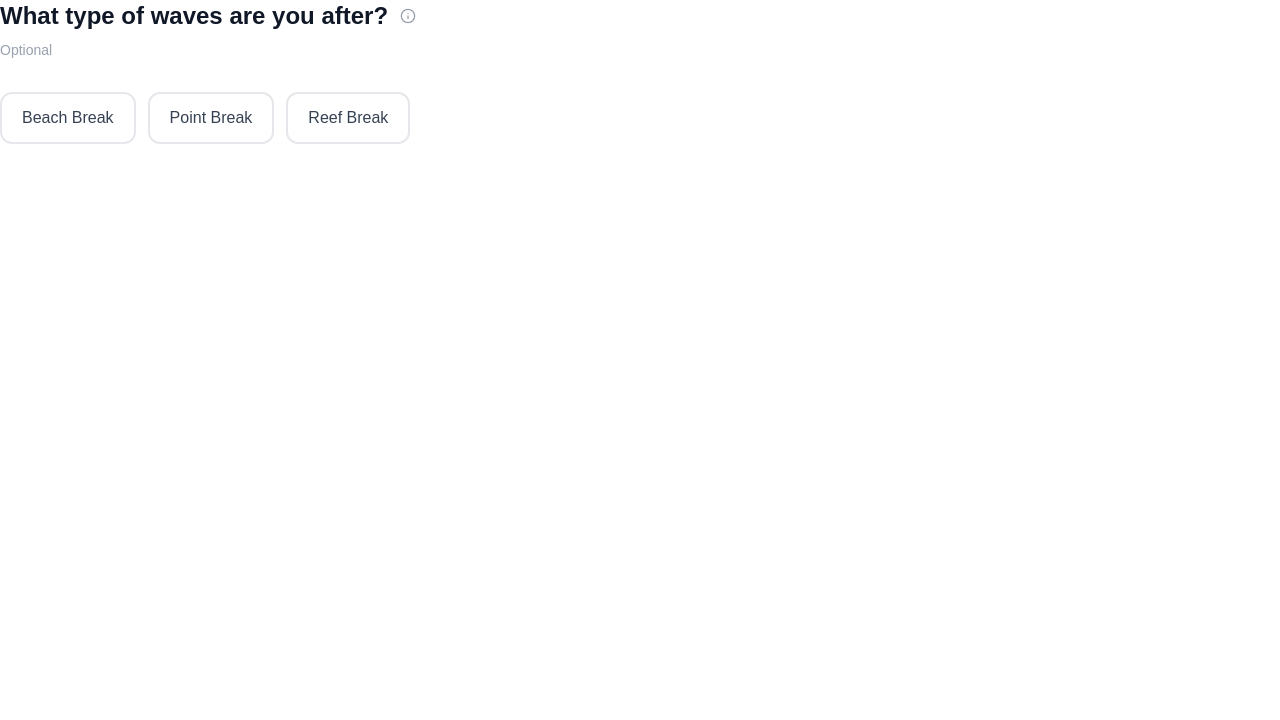
Test: QuestionScreen — tooltip › closes the info modal (after its exit animation) when the close button is clicked
Step 1. Click the button named "More info" → (408, 16), box [396,4,420,28]
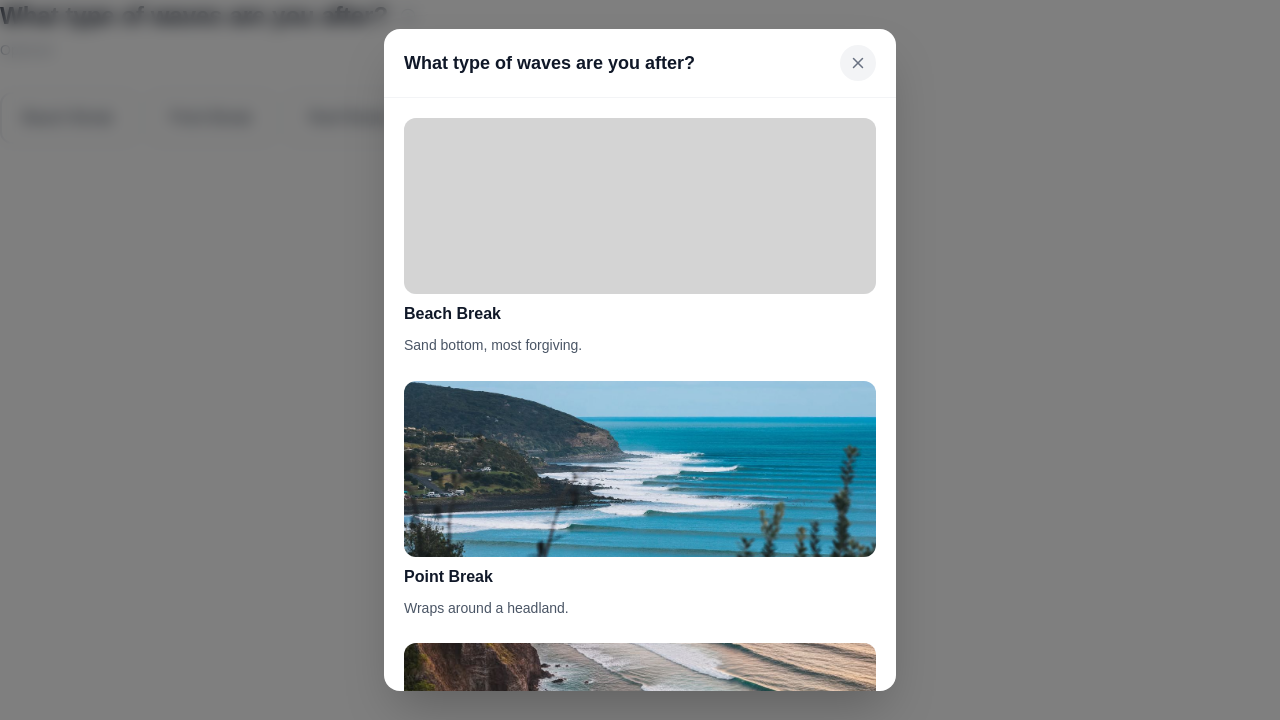
Check: the button named "Close" is shown
Step 2. Click the button named "Close" → (858, 63), box [840,45,876,81]
Wait 240 ms
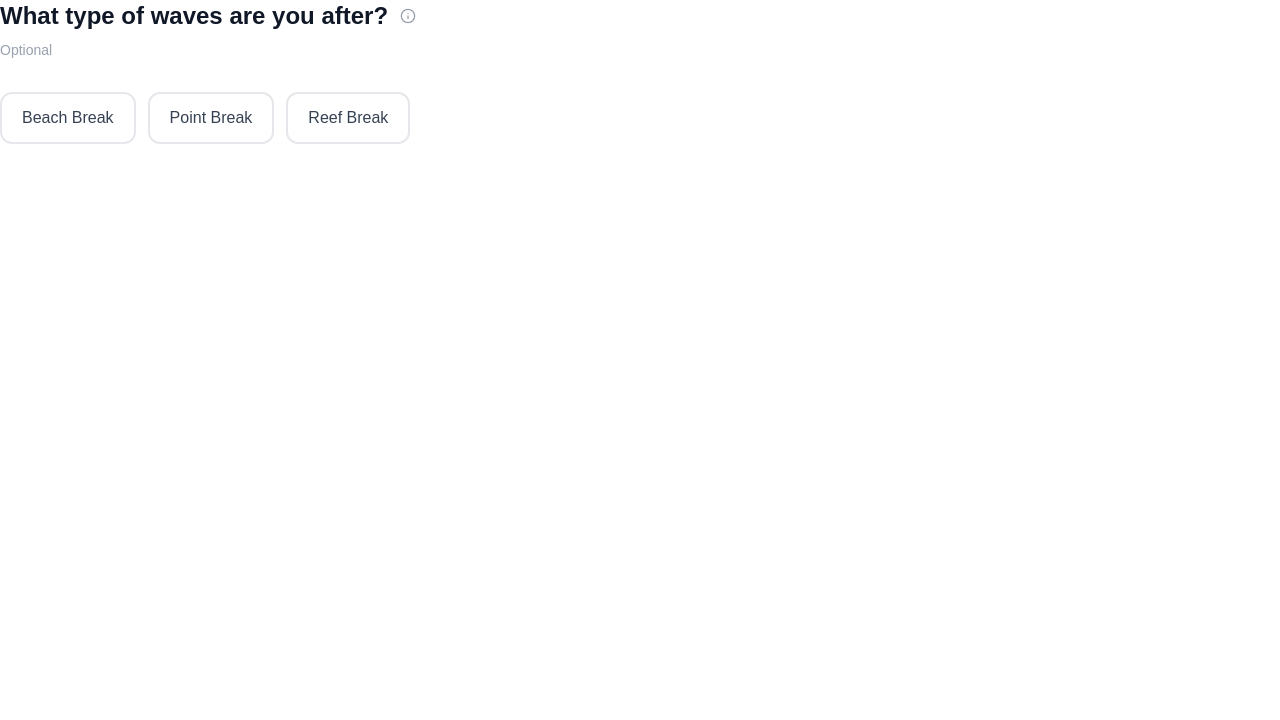
Check: the button "Close" is gone
